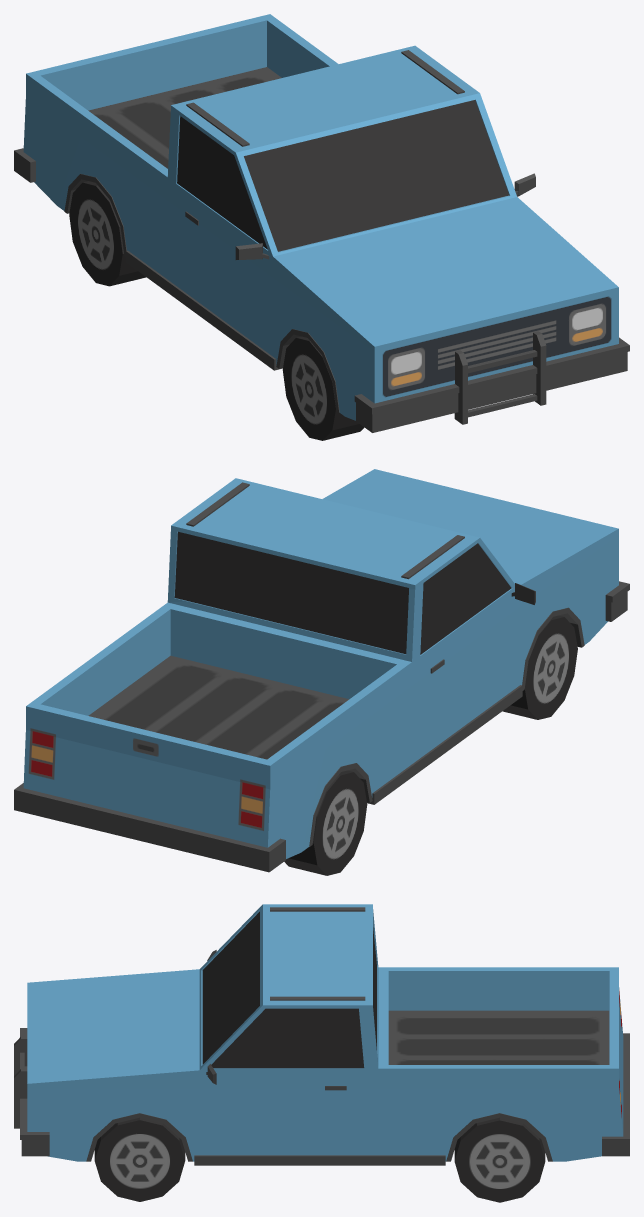
The model's file is Car_BluePickup.glb.
3 views of the same model, one above another, from view 1: azimuth 30°, elevation 25°; view 2: azimuth 150°, elevation 25°; view 3: azimuth 270°, elevation 25° (orthographic). The views are drawn at different scales.
Parts seen in each view (by area): view 1: Object_120.001; view 2: Object_120.001; view 3: Object_120.001.
Boxes of the visible parts, bbox=[...] form: Object_120.001: bbox=[14, 14, 629, 440]; Object_120.001: bbox=[14, 469, 629, 875]; Object_120.001: bbox=[14, 904, 629, 1202].
Bounding box in the file's own units: 3.06 × 2.29 × 6.43.
Materials: 1 (1 with a texture image).
